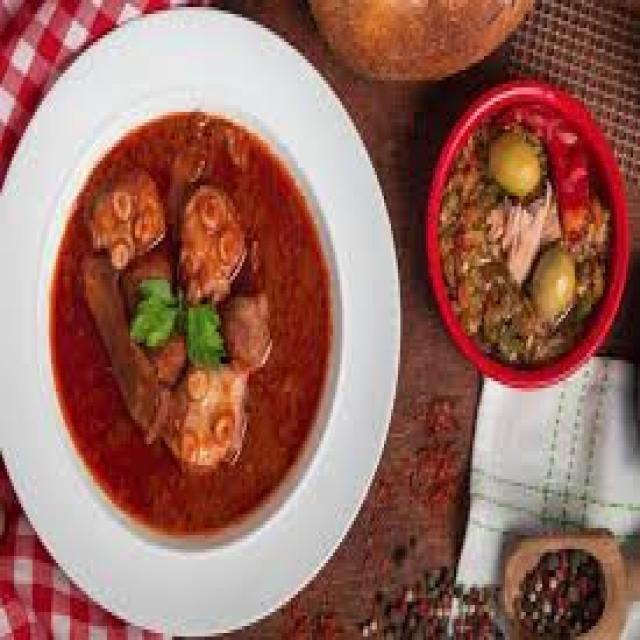kamouniya: (52, 131, 311, 536)
